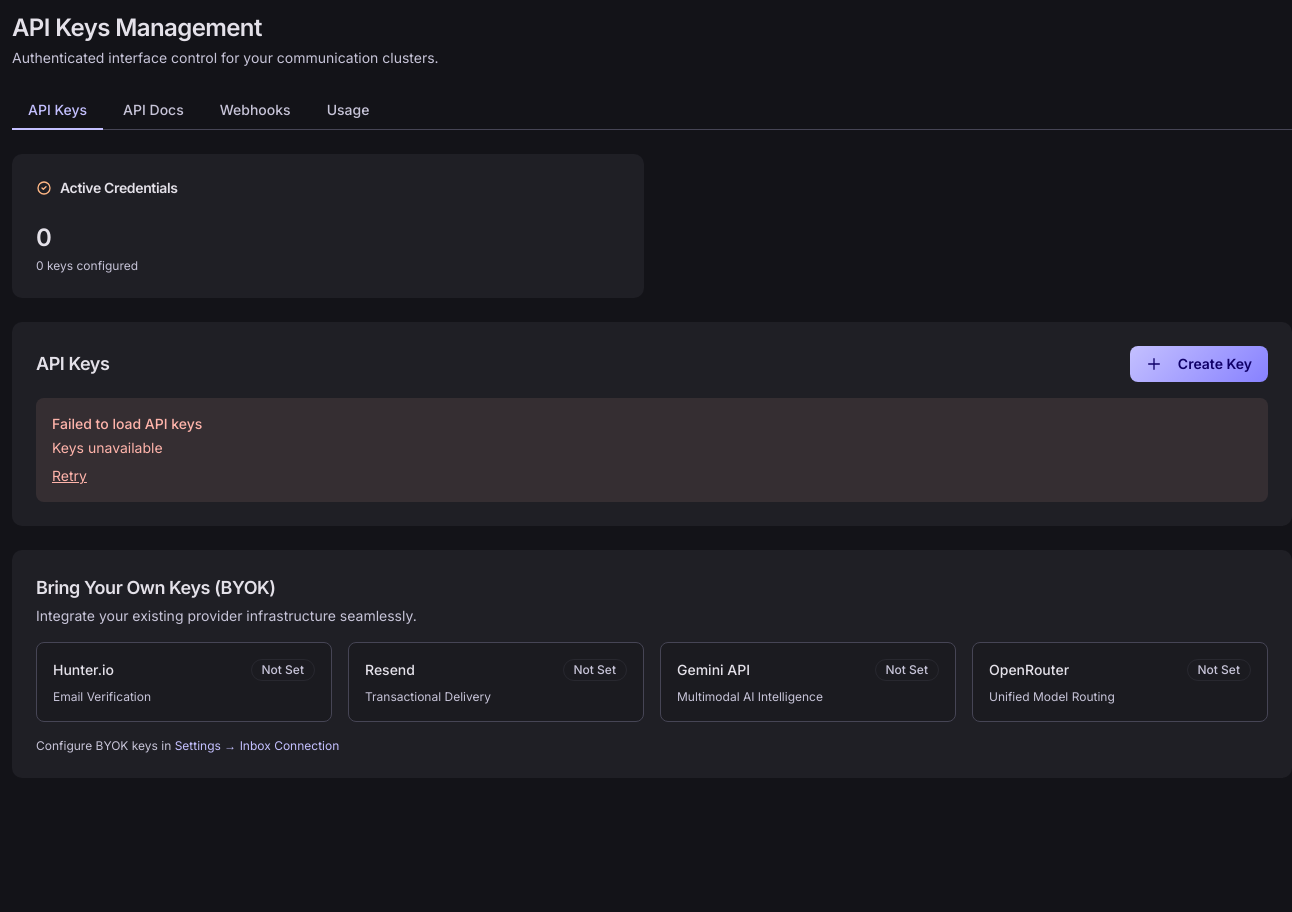
Test: DeveloperPage › shows API key load errors and retries
The image size is (1292, 912).
Check: the text "Failed to load API keys" is shown, box [52,415,202,432]
Check: the text "Keys unavailable" is shown, box [52,439,163,456]
Click the button "Retry" at point(69, 476), box [52,466,87,486]
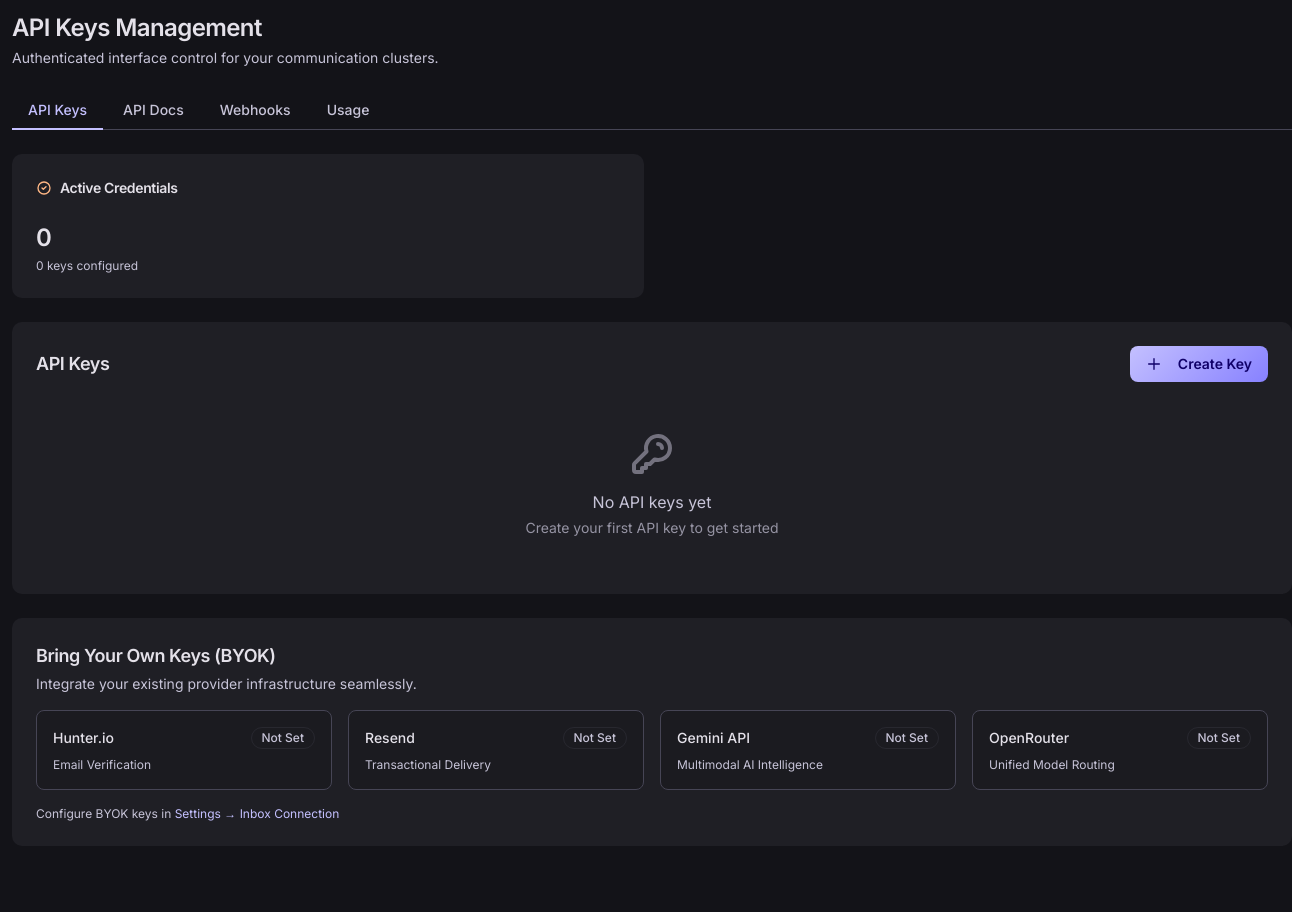
Check: the text "No API keys yet" is shown, box [593,492,711,512]
